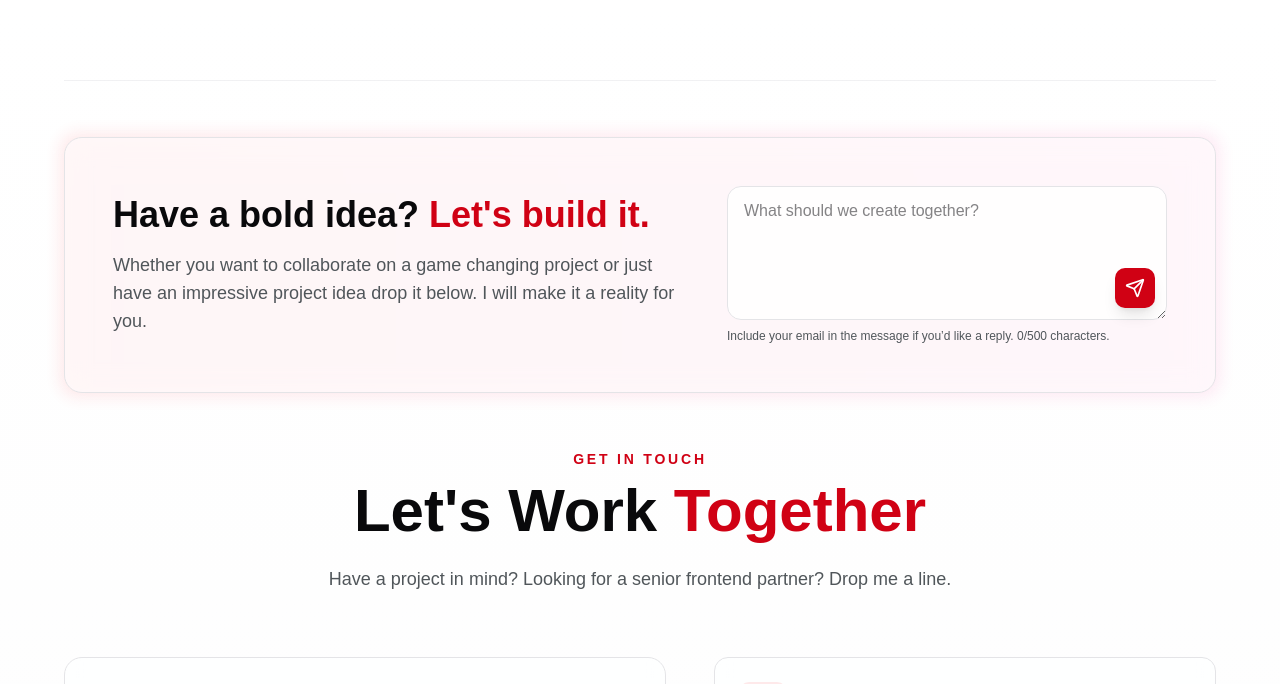
Test: validates and sends a quick message without opening a mail app
This screenshot has width=1280, height=684.
Step 1. Type "short" into the text box named "Quick project message" → {"x": 947, "y": 253}, box [727,186,1167,320]
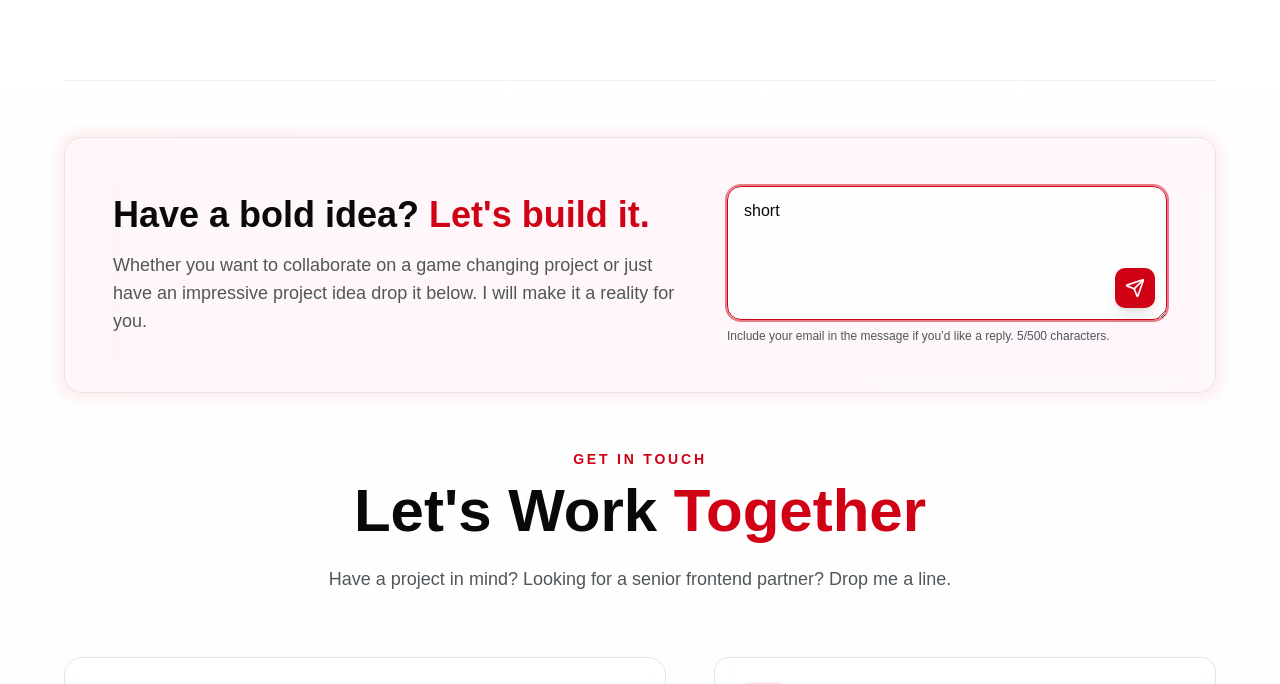
Step 2. Click the button named "Send message to Krishna" → {"x": 1135, "y": 288}, box [1115,268,1155,308]
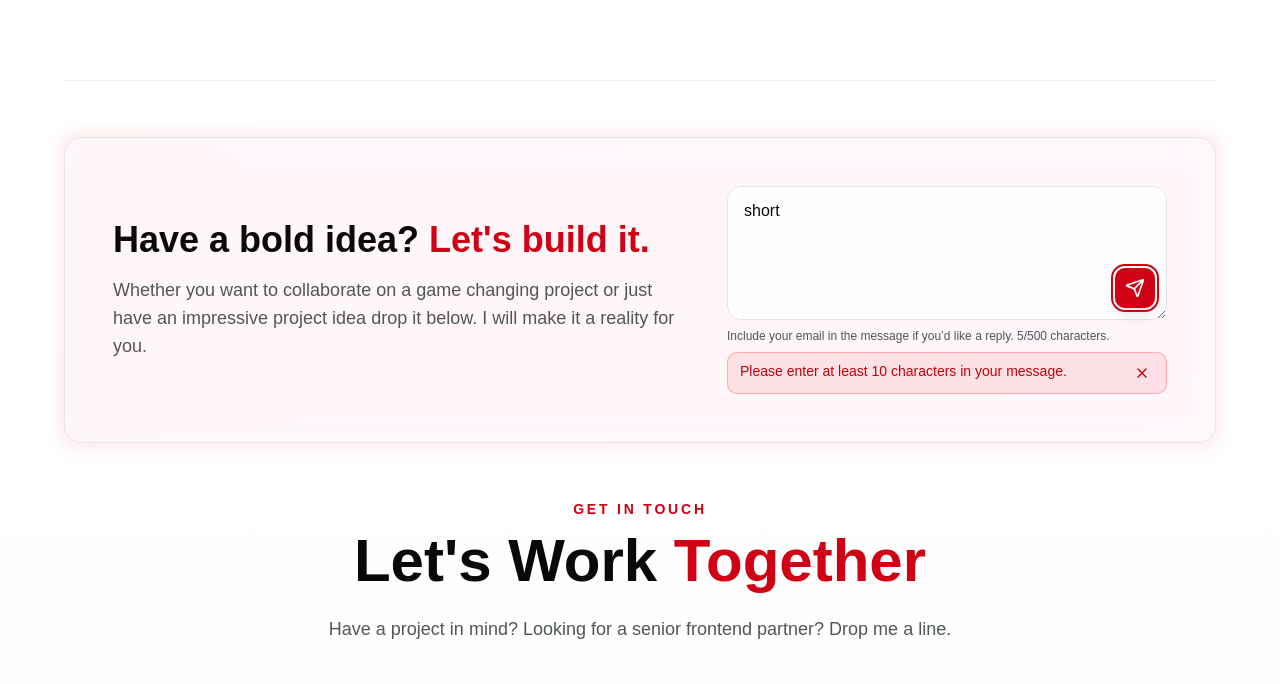
Expected: the message shows "at least 10", [740,363,1067,379]
Step 3. Click the button named "Dismiss message alert" → {"x": 1142, "y": 373}, box [1130,361,1154,385]
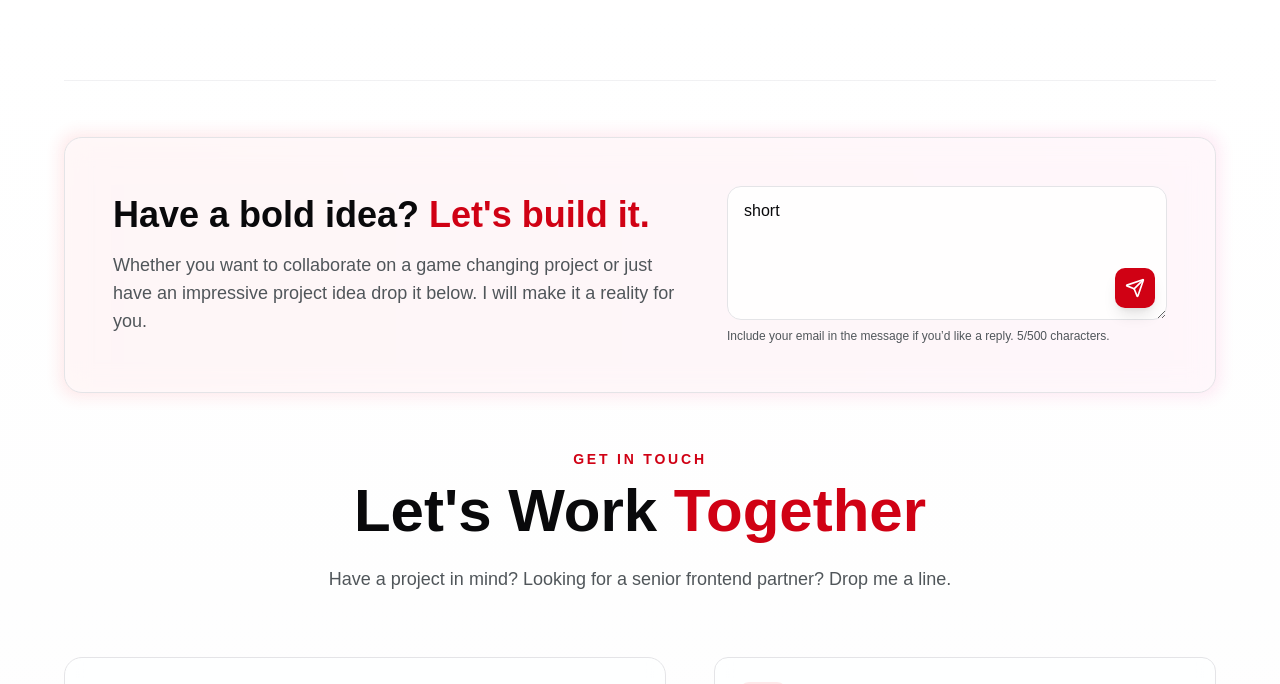
Expected: the message "Please enter at least 10 characters in your message." is gone
Step 4. Replace the text in the text box named "Quick project message" with "A project idea to discuss." → {"x": 947, "y": 253}, box [727,186,1167,320]
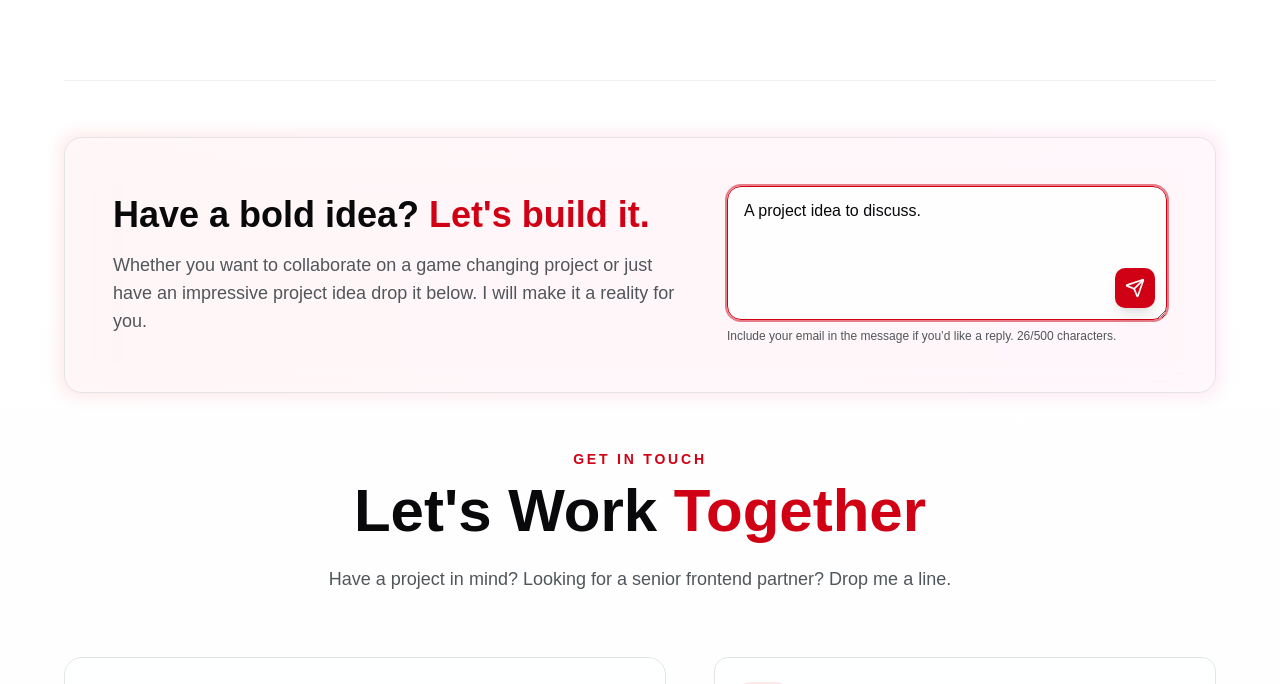
Step 5. Click the button named "Send message to Krishna" → {"x": 1135, "y": 288}, box [1115,268,1155,308]
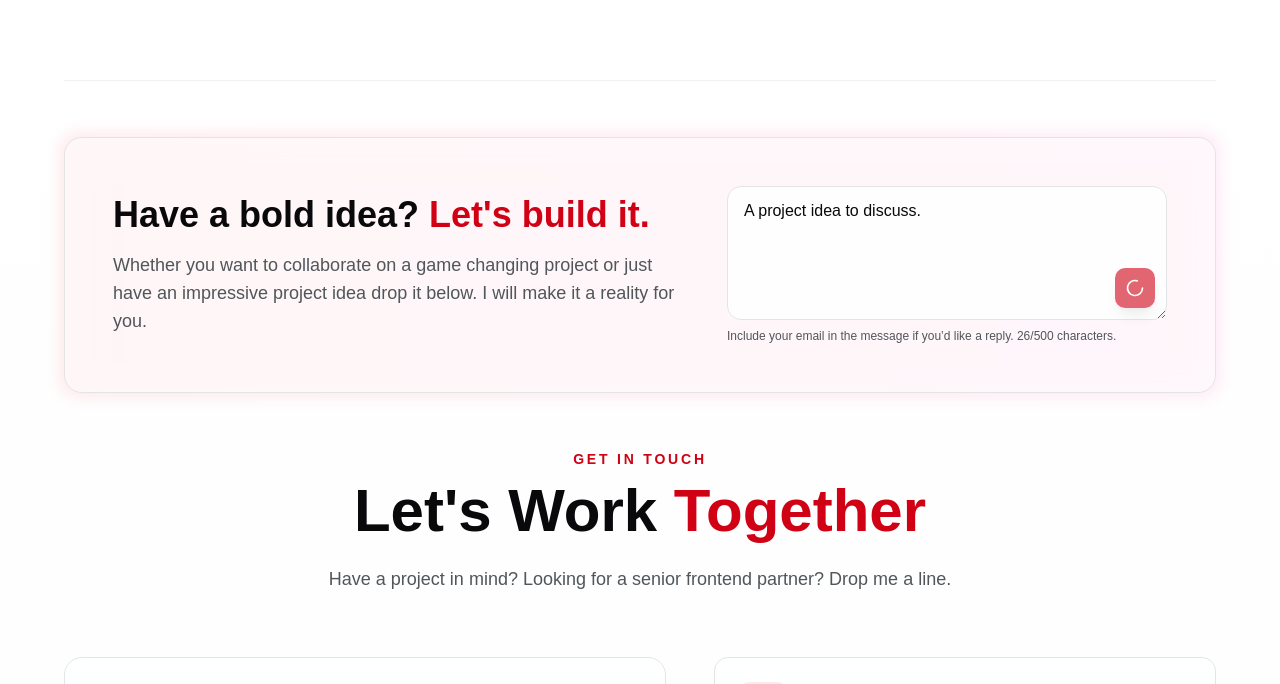
Expected: the text box named "Quick project message" is disabled, [727,186,1167,320]
Step 6. Submit the form named "Send message to Krishna", box [727,186,1167,344]
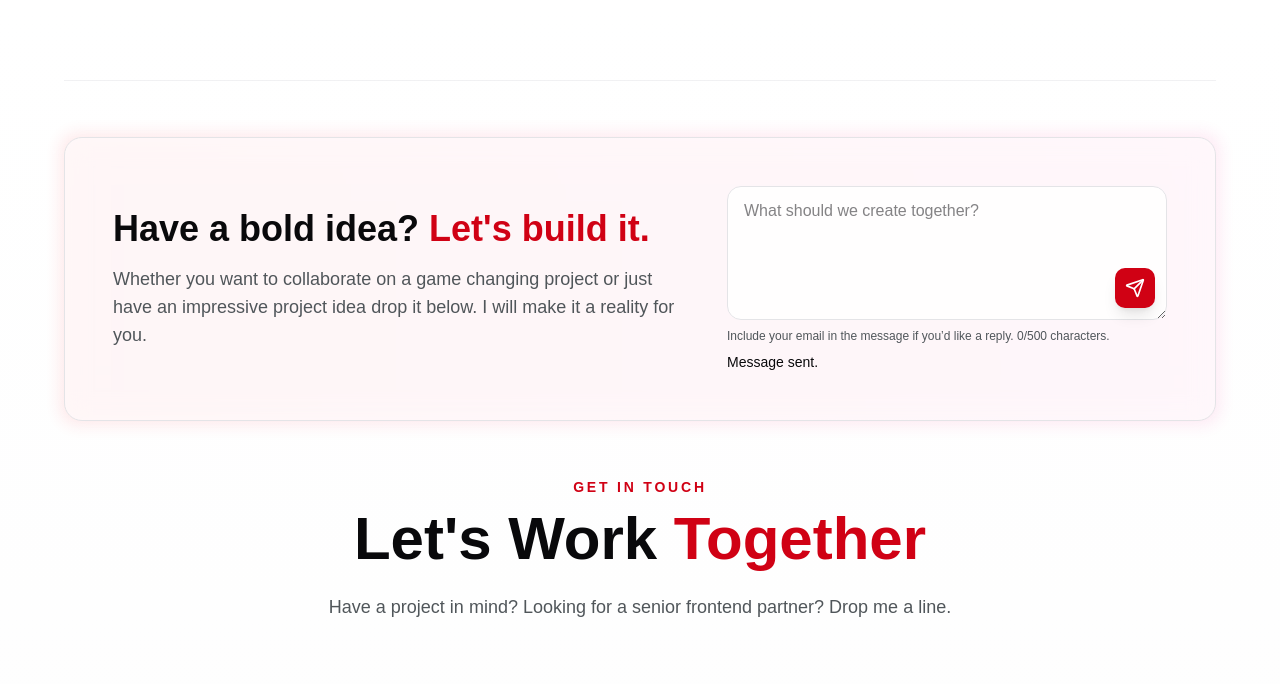
Expected: the message reads "Message sent.", [727,354,818,370]
